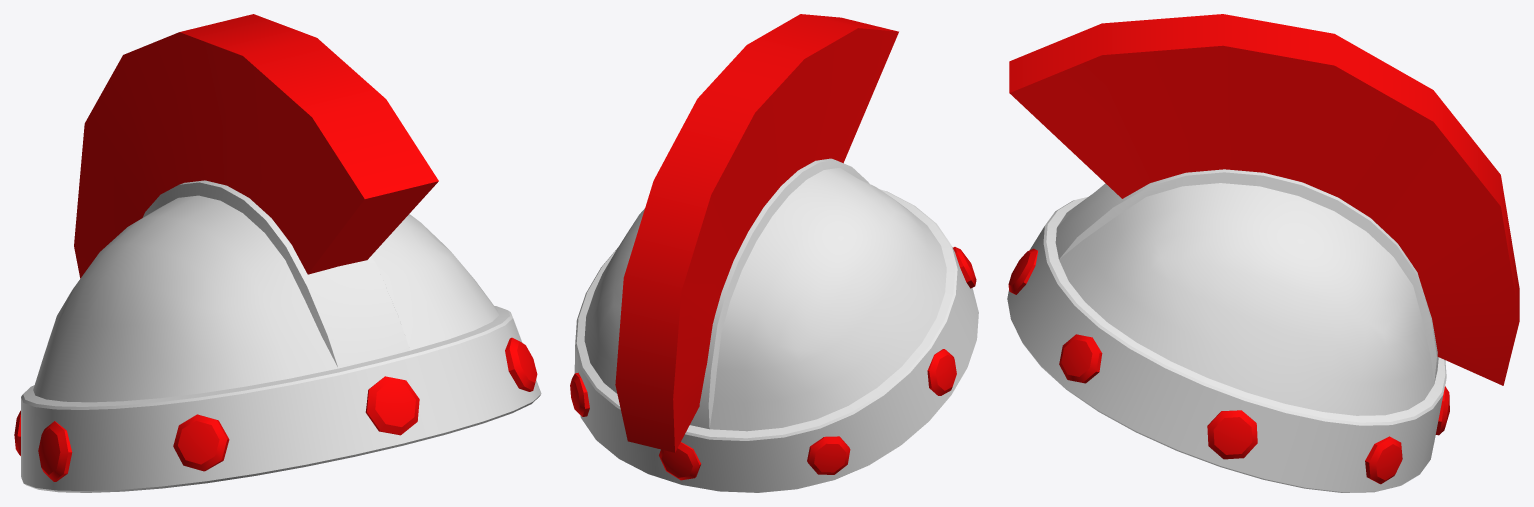
The model's file is Player_Helmet.fbx.
3 renders of one model, left to right at view 1: azimuth 30°, elevation 25°; view 2: azimuth 150°, elevation 25°; view 3: azimuth 270°, elevation 25°, orthographic. The views are drawn at different scales.
Visible parts, largest first — view 1: Sparta_Helmet; view 2: Sparta_Helmet; view 3: Sparta_Helmet.
Part boxes in pixels (x1,y1,x2,y2): Sparta_Helmet: (14,14,541,492); Sparta_Helmet: (570,14,978,492); Sparta_Helmet: (1007,14,1519,492).
Size of the model in its own units: 64.3 by 63.11 by 71.07.
